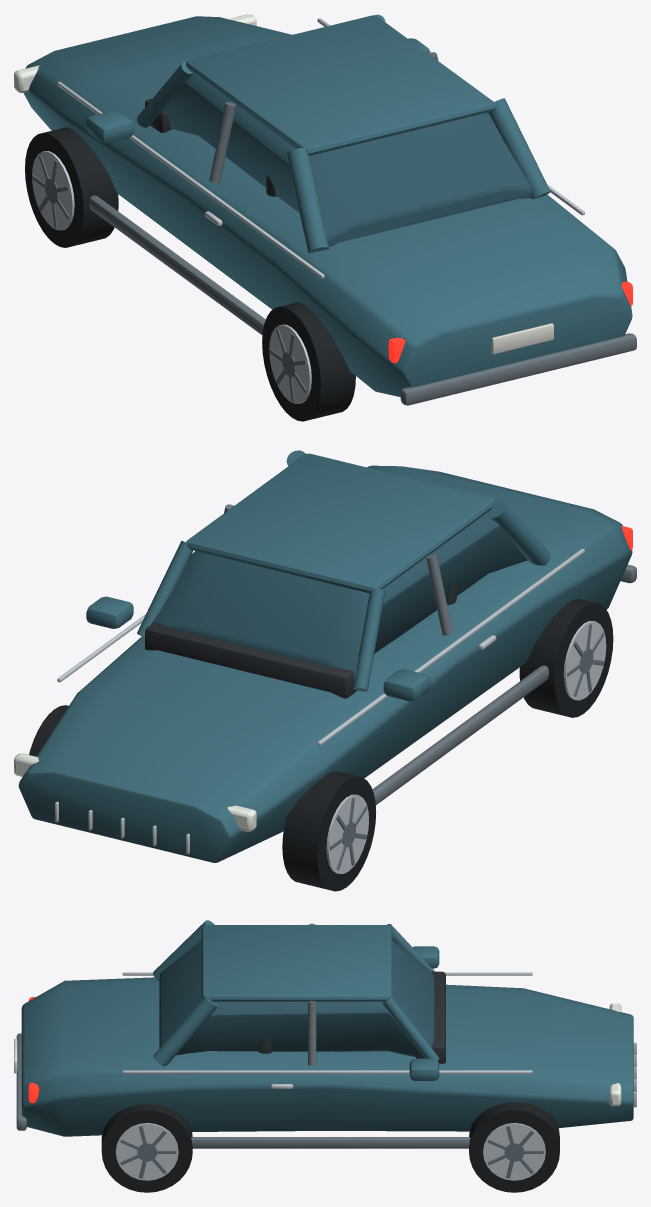
Rendered from Aster_Sedan.fbx.
The picture shows the model from 3 angles, top to bottom: view 1: azimuth 30°, elevation 25°; view 2: azimuth 150°, elevation 25°; view 3: azimuth 270°, elevation 25°; orthographic projection. The views are drawn at different scales.
Parts seen in each view (by area): view 1: Body.054, Wheel_LF.009, Wheel_LR.009; view 2: Body.054, Wheel_LF.009, Wheel_LR.009, Wheel_RF.009; view 3: Body.054, Wheel_RF.009, Wheel_RR.009.
Part boxes in pixels (box(x1,y1,x2,y2)): Body.054: box(23, 14, 636, 405); Wheel_LF.009: box(25, 127, 118, 247); Wheel_LR.009: box(262, 302, 355, 421); Body.054: box(18, 450, 636, 862); Wheel_LF.009: box(282, 771, 376, 891); Wheel_LR.009: box(519, 599, 613, 717); Wheel_RF.009: box(29, 705, 68, 756); Body.054: box(14, 920, 636, 1148); Wheel_RF.009: box(469, 1102, 559, 1192); Wheel_RR.009: box(101, 1104, 192, 1192).
Bounding box in the file's own units: 2.27 × 1.51 × 4.78.
